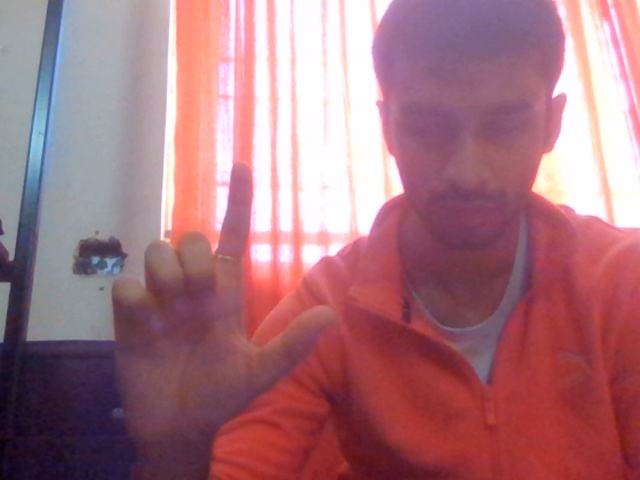L: (77, 137, 355, 480)
